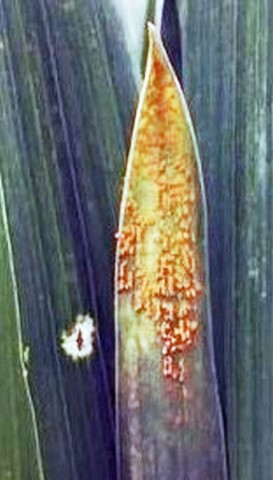Leaf Rust: (105, 32, 216, 370)
